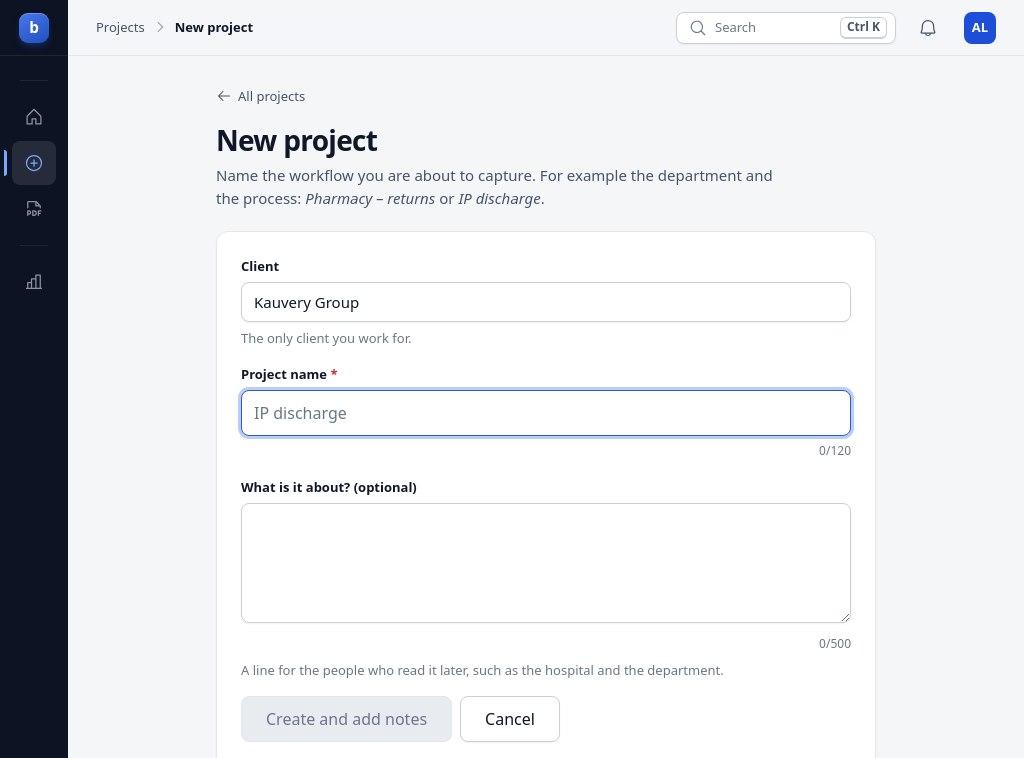
Test: a new project › says why when the project cannot be created
Type "x" into the field labelled "Project name".
click(546, 413); type("x")  # box [241,390,851,436]
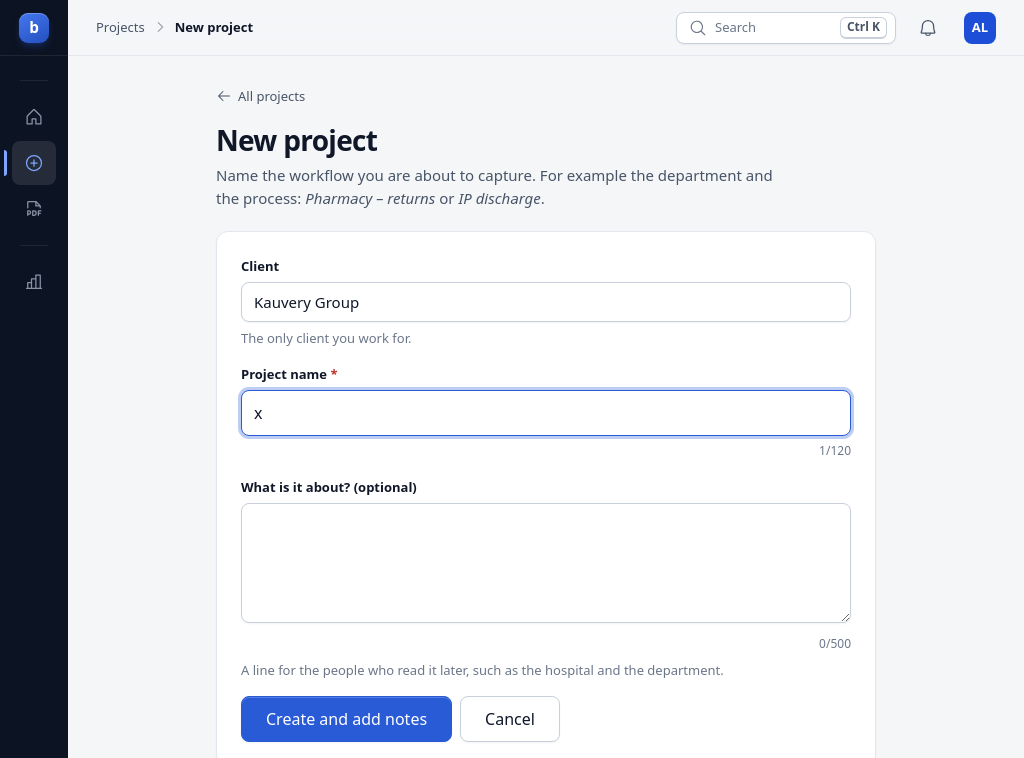
Click the button "Create and add notes".
click(347, 719)  # box [241,696,452,742]
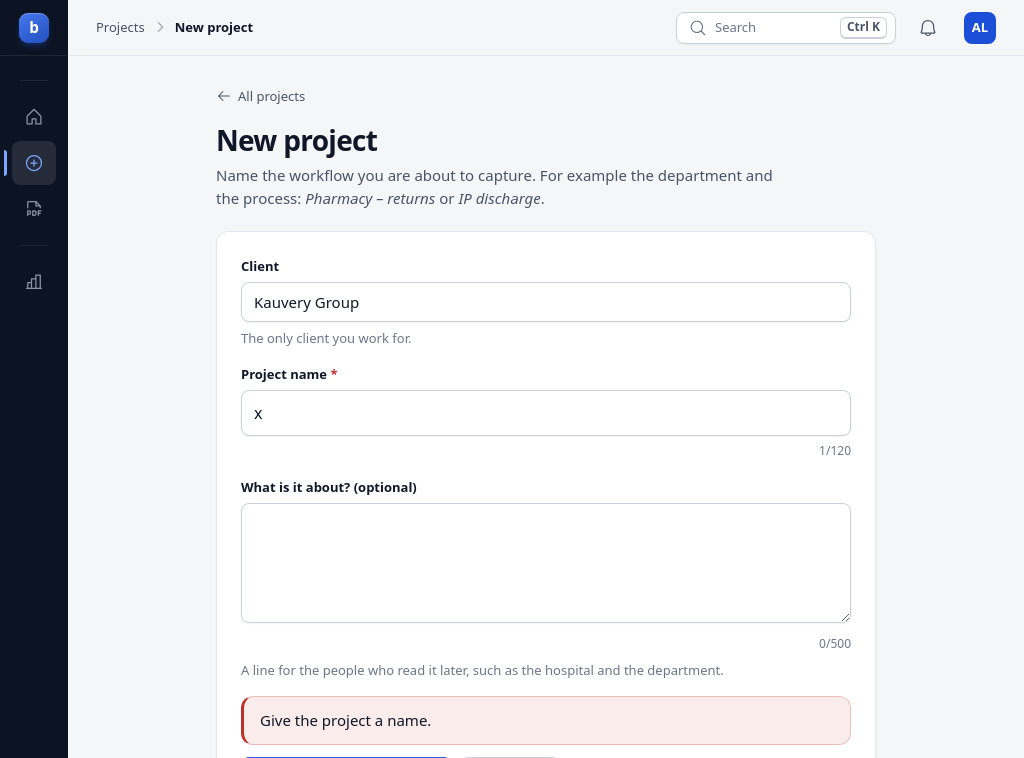
Result: the message reads "Give the project a name." at [260,710,431,730]
